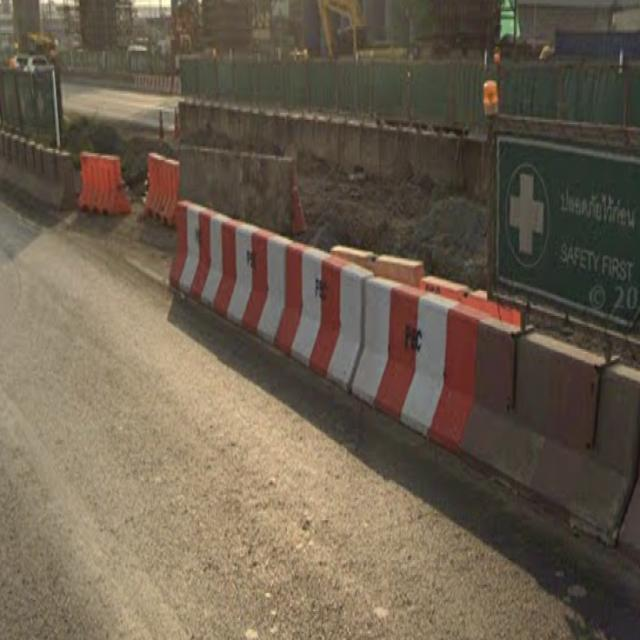fallen_object: (463, 296, 640, 548), (165, 187, 371, 391), (345, 245, 507, 484), (0, 119, 84, 248), (66, 135, 153, 247), (126, 136, 192, 239)
